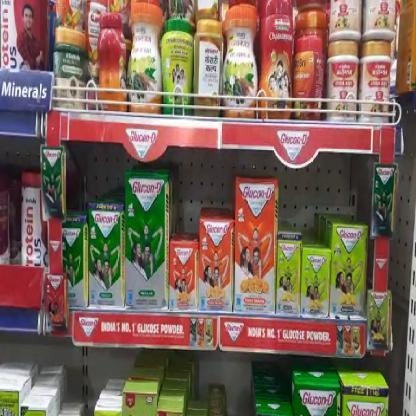Glucon D Nimbu Pani 1-KG: (332, 221, 368, 316)
